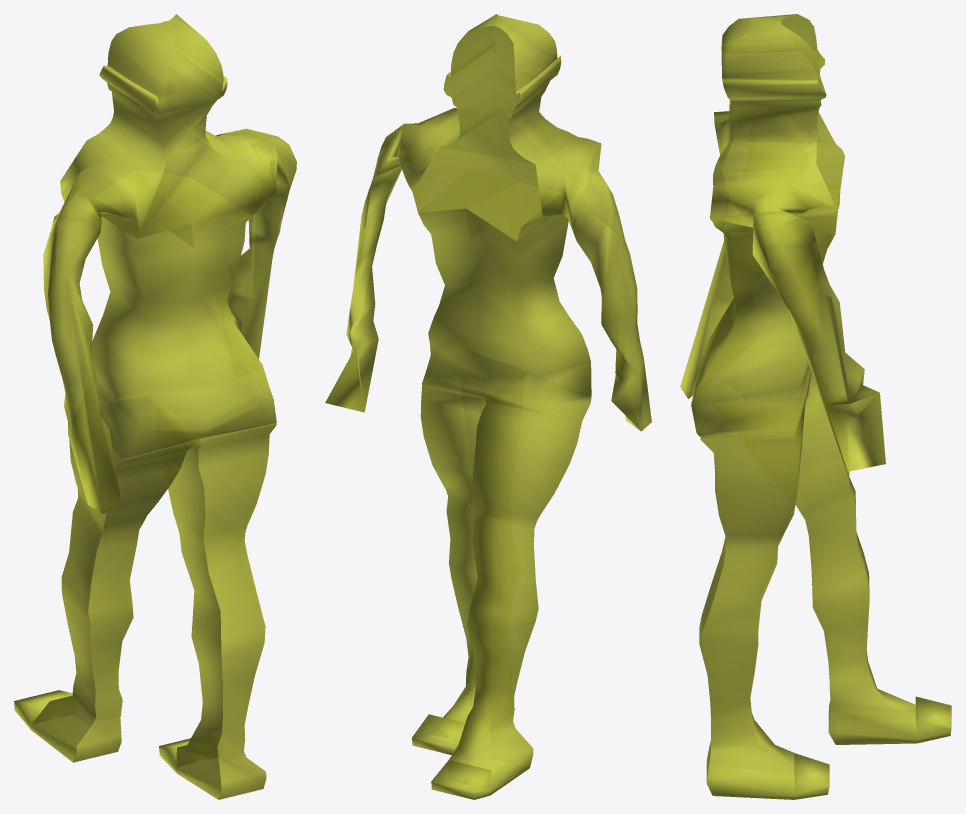
The model's file is woman_000008.obj.
The picture shows the model from 3 angles, left to right: view 1: azimuth 30°, elevation 25°; view 2: azimuth 150°, elevation 25°; view 3: azimuth 270°, elevation 25°; orthographic projection. The views are drawn at different scales.
Parts seen in each view (by area): view 1: Cube_Cube.001; view 2: Cube_Cube.001; view 3: Cube_Cube.001.
Boxes of the visible parts, left/top/right/bottom form: Cube_Cube.001: left=14, top=14, right=296, bottom=799; Cube_Cube.001: left=325, top=14, right=651, bottom=799; Cube_Cube.001: left=680, top=14, right=951, bottom=799.
Size of the model in its own units: 3.52 by 9.95 by 3.27.
